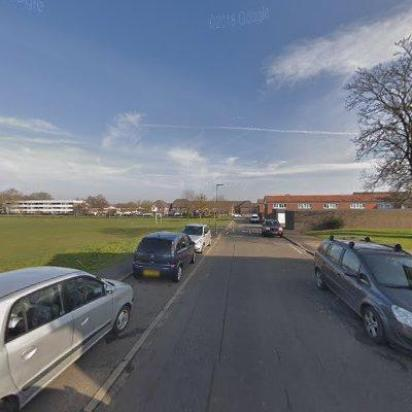stationary-car-onstreet: (0, 264, 136, 412), (308, 232, 412, 358), (131, 231, 197, 283), (179, 223, 211, 252), (260, 217, 284, 236), (248, 213, 260, 223)
